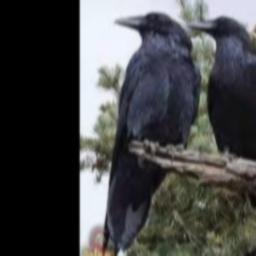Crow: (102, 12, 202, 256), (186, 16, 256, 164)
